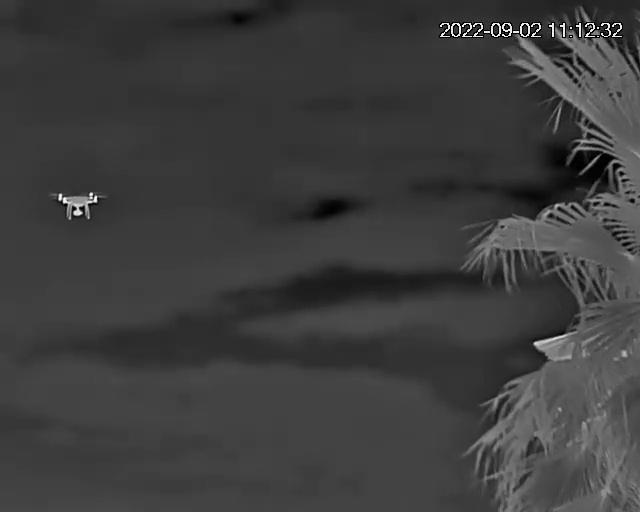DJI-Phantom: (46, 188, 112, 224)
